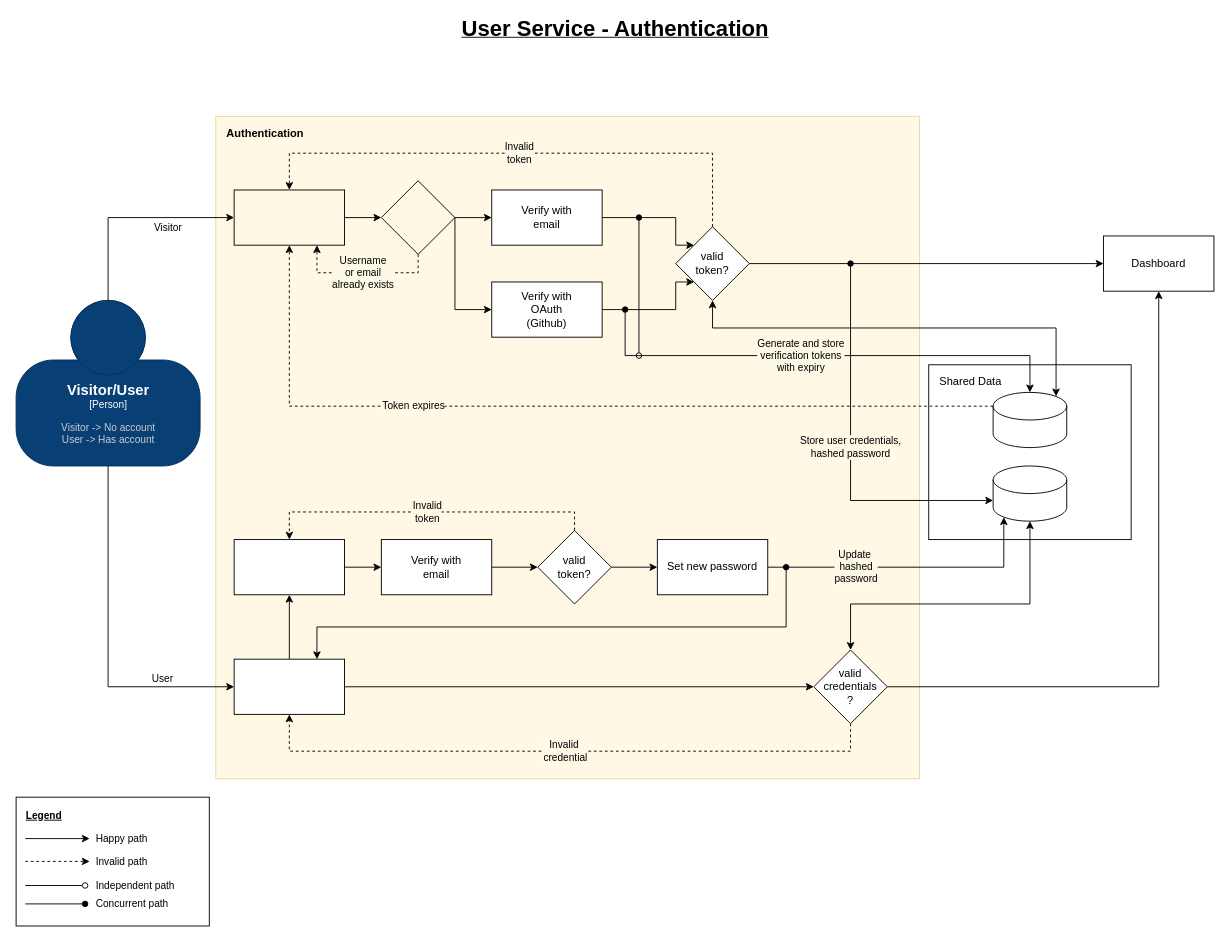
Some shapes in this 1230 by 942 pixel diagram are drawn without their labels. The centre of each missing label's shape, as x and y in pixels:
any duplicate ?: the point at 417,217
Forget password: the point at 289,567
Login: the point at 289,686
Planetscale: the point at 1029,493
Redis: the point at 1029,419
Sign up: the point at 289,217
